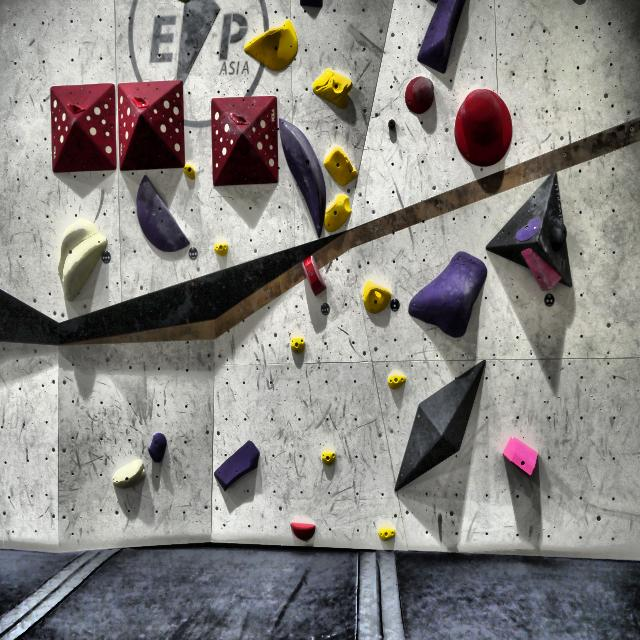Hold: (406, 240, 485, 346), (453, 79, 520, 173), (273, 114, 324, 237), (136, 178, 197, 259), (52, 219, 105, 303), (418, 0, 473, 73), (244, 16, 299, 77), (213, 440, 263, 501), (514, 246, 564, 293), (499, 430, 541, 480), (308, 58, 351, 105), (396, 72, 438, 115), (111, 456, 153, 498), (324, 145, 363, 190), (321, 194, 355, 240), (354, 278, 392, 319), (301, 252, 331, 299), (145, 427, 171, 470), (543, 213, 574, 247), (292, 516, 322, 550), (224, 103, 252, 130), (514, 214, 536, 244), (125, 92, 157, 112), (179, 160, 205, 183), (375, 524, 401, 547), (60, 100, 90, 118), (318, 448, 341, 471), (208, 232, 228, 258), (286, 340, 311, 360), (388, 370, 408, 389), (66, 101, 87, 118), (128, 92, 147, 110)
